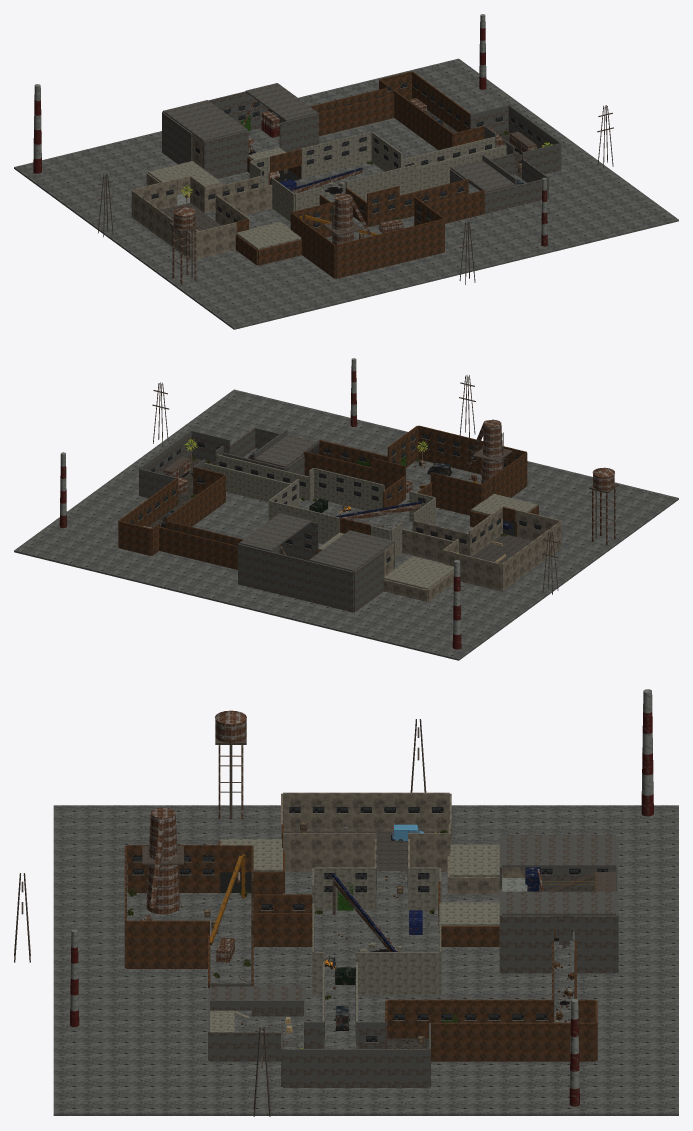
File: factory.glb
The picture shows the model from 3 angles, top to bottom: view 1: azimuth 30°, elevation 25°; view 2: azimuth 150°, elevation 25°; view 3: azimuth 270°, elevation 25°; orthographic projection. The views are drawn at different scales.
Visible parts, largest first — view 1: Ground1, RoomWall42, RoomWall24, Ceiling3, RoomWall12, RoomWall35, RoomWall7, RoomWall44, RoomWall26, RoomWall10, Ceiling4, RoomWall14 (+30 smaller); view 2: Ground1, RoomWall34, RoomWall42, RoomWall11, Ceiling3, RoomWall26, RoomWall44, RoomWall39, RoomWall13, Ceiling5, RoomWall7, Ceiling4 (+30 smaller); view 3: Ground1, RoomWall10, RoomWall44, RoomWall5, Floor8, RoomWall7, RoomWall43, Floor14, Ceiling3, RoomWall27, RoomWall48, RoomWall38 (+27 smaller).
Part boxes in pixels (box(x1,y1,x2,y2)): Ground1: box(14, 58, 678, 329); RoomWall42: box(335, 218, 444, 278); RoomWall24: box(301, 131, 371, 178); Ceiling3: box(163, 100, 247, 141); RoomWall12: box(318, 94, 394, 136); RoomWall35: box(203, 131, 248, 178); RoomWall7: box(393, 90, 453, 150); RoomWall44: box(131, 190, 191, 259); RoomWall26: box(345, 164, 416, 201); RoomWall10: box(412, 71, 470, 131); Ceiling4: box(245, 83, 317, 121); RoomWall14: box(417, 145, 506, 190); Ground1: box(14, 389, 678, 660); RoomWall34: box(238, 544, 353, 612); RoomWall42: box(418, 425, 526, 474); RoomWall11: box(159, 527, 237, 569); Ceiling3: box(309, 530, 393, 571); RoomWall26: box(314, 468, 384, 511); RoomWall44: box(501, 521, 561, 590); RoomWall39: box(430, 472, 482, 515); RoomWall13: box(204, 463, 299, 507); Ceiling5: box(384, 556, 453, 589); RoomWall7: box(166, 475, 225, 528); Ceiling4: box(239, 513, 311, 551); Ground1: box(53, 805, 678, 1115); RoomWall10: box(431, 1022, 595, 1061); RoomWall44: box(283, 792, 449, 831); RoomWall5: box(283, 1049, 428, 1087); Floor8: box(314, 910, 438, 994); RoomWall7: box(387, 999, 553, 1038); RoomWall43: box(126, 920, 209, 968); Floor14: box(127, 893, 251, 967); Ceiling3: box(502, 834, 616, 867); RoomWall27: box(356, 952, 439, 995); RoomWall48: box(283, 833, 376, 872); RoomWall38: box(502, 915, 553, 973).
Size of the model in its own units: 145 by 30 by 128.
Materials: 32 (32 with a texture image).
